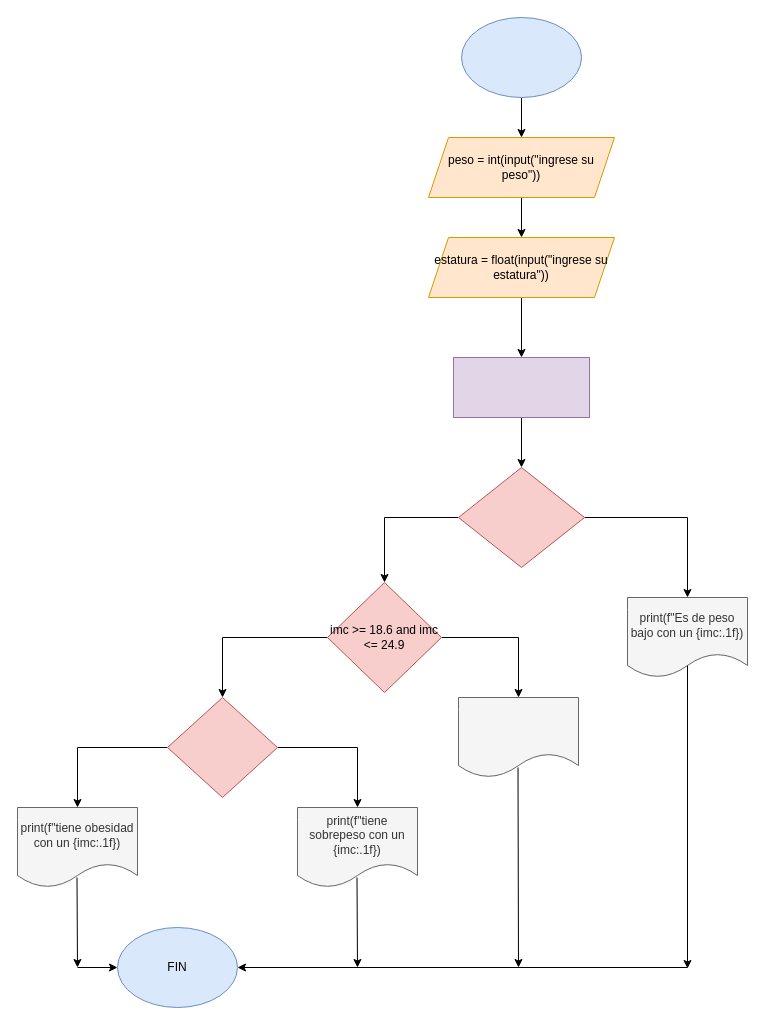
Some shapes in this 765 by 1025 pixel diagram are drawn without their labels. Here are the shapes that lost their labels. From the top down, the centre of each, then its label:
point (521, 387): imc = peso / (estatura ** 2)
point (521, 517): imc < 18.5
point (222, 747): imc >= 25 and imc <= 29.9
point (518, 737): print(f"Es de peso normal con un {imc:.1f})
